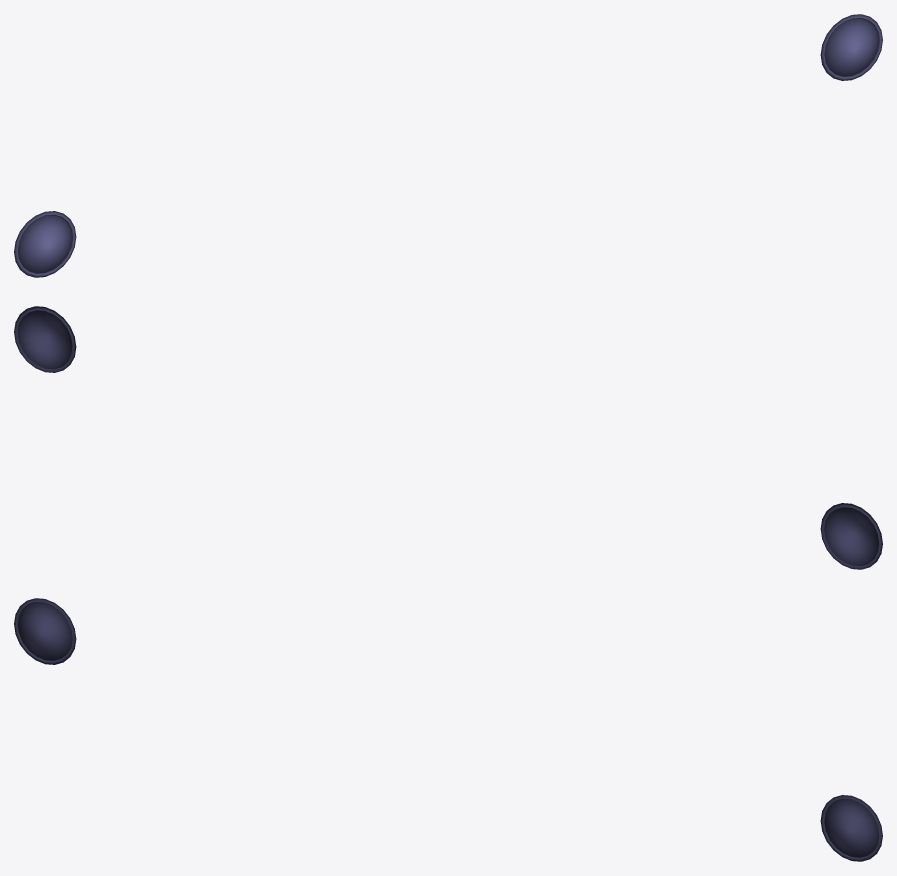
File: Viper_FB_01_Detail.fbx
The picture shows the model from 3 angles, top to bottom: view 1: azimuth 30°, elevation 25°; view 2: azimuth 150°, elevation 25°; view 3: azimuth 330°, elevation 25°; orthographic projection.
Visible parts, largest first — view 1: Viper_FB_01_Detail; view 2: Viper_FB_01_Detail; view 3: Viper_FB_01_Detail.
Boxes of the visible parts, x1=… form: Viper_FB_01_Detail: x1=14, y1=14, x2=882, y2=277; Viper_FB_01_Detail: x1=14, y1=306, x2=882, y2=569; Viper_FB_01_Detail: x1=14, y1=598, x2=882, y2=861.
Size of the model in its own units: 159 by 11.42 by 1.01.
